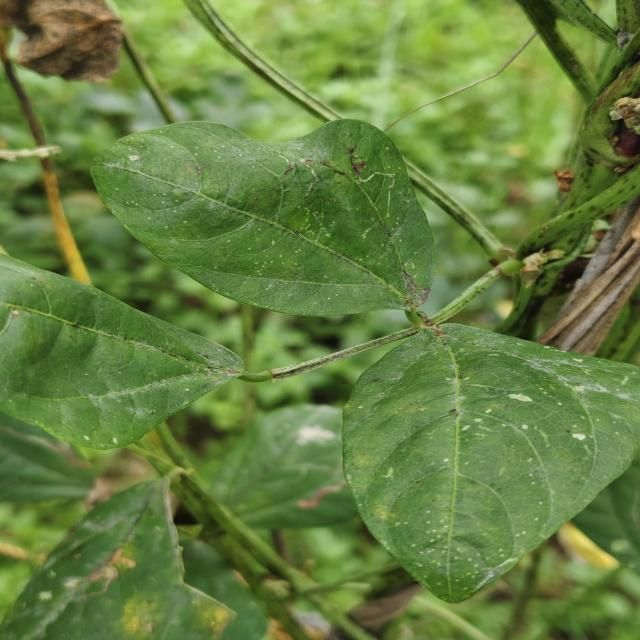sitaw-aphid-high: (342, 324, 639, 602), (92, 119, 434, 316), (0, 255, 271, 450)
sitaw-aphid-low: (13, 477, 236, 640)
